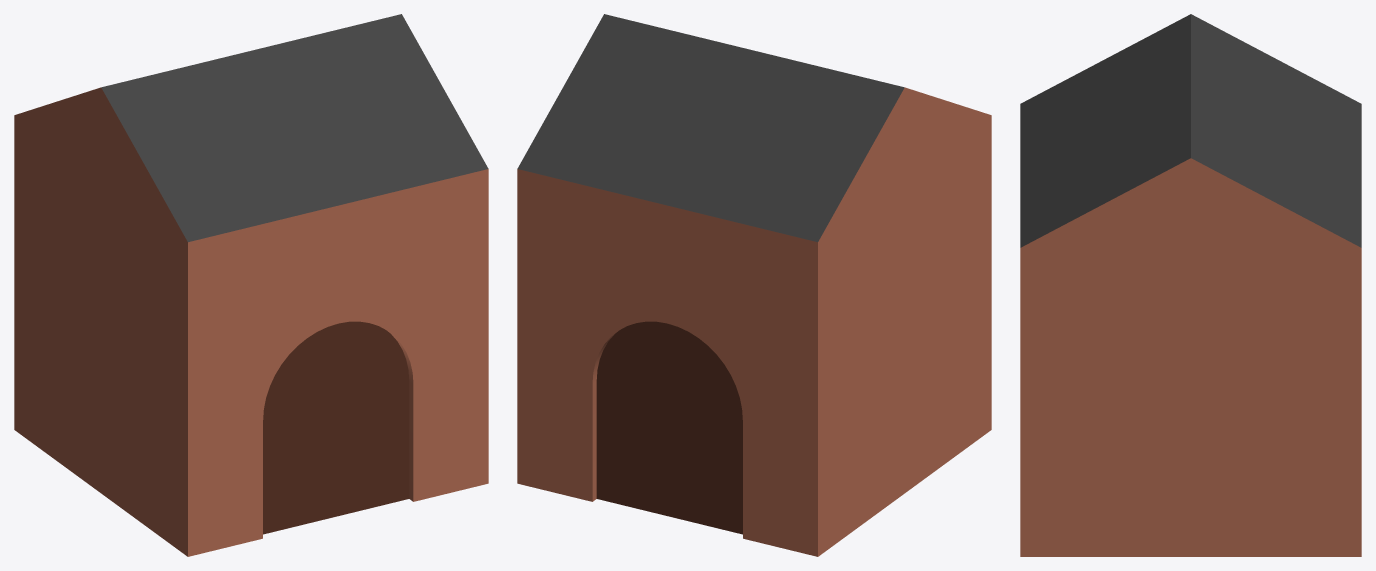
Rendered from factory_door_01.fbx.
3 renders of one model, left to right at view 1: azimuth 30°, elevation 25°; view 2: azimuth 150°, elevation 25°; view 3: azimuth 270°, elevation 25°, orthographic.
Parts seen in each view (by area): view 1: factory_04; view 2: factory_04; view 3: factory_04.
Boxes of the visible parts, x1,y1,x2,y2 form: factory_04: [14, 14, 488, 556]; factory_04: [517, 14, 991, 556]; factory_04: [1020, 14, 1361, 556].
Size of the model in its own units: 400 by 516 by 400.
